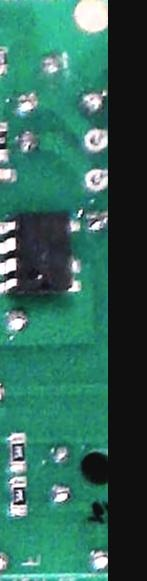chip-capacitor: (0, 166, 18, 184)
chip-resistor: (7, 432, 29, 473), (7, 476, 29, 517)
ic: (0, 211, 83, 298)
